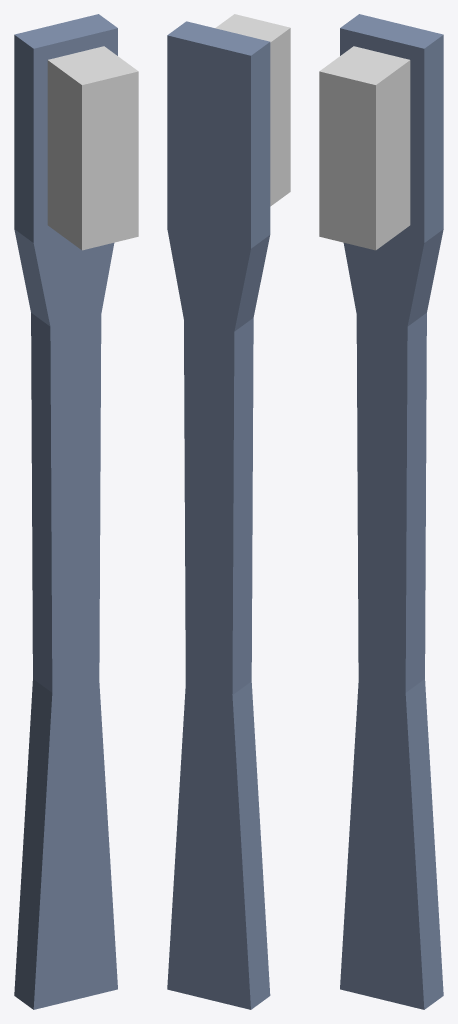
The model's file is Toothbrush_02.fbx.
3 views of the same model, side by side, from view 1: azimuth 30°, elevation 25°; view 2: azimuth 150°, elevation 25°; view 3: azimuth 330°, elevation 25° (orthographic).
Visible parts, largest first — view 1: Toothbrush_02; view 2: Toothbrush_02; view 3: Toothbrush_02.
Boxes of the visible parts, x1,y1,x2,y2 form: Toothbrush_02: [14, 14, 138, 1009]; Toothbrush_02: [167, 14, 290, 1009]; Toothbrush_02: [319, 14, 443, 1009].
Size of the model in its own units: 1.81 by 19.69 by 2.
